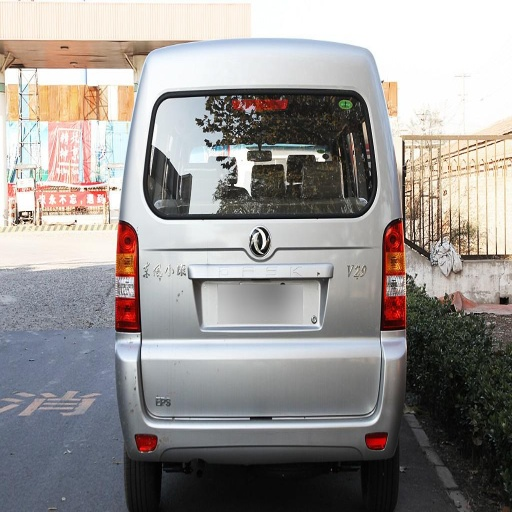back_bumper: (117, 329, 404, 464)
tailgate: (198, 208, 368, 337)
trunk: (141, 220, 391, 410)
